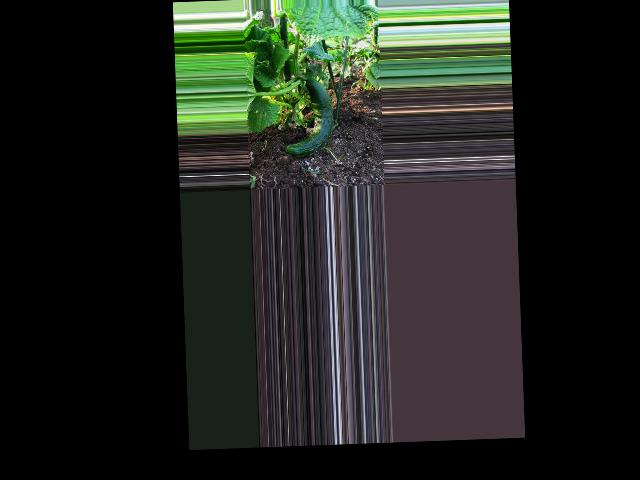cucumber: (281, 76, 335, 158)
